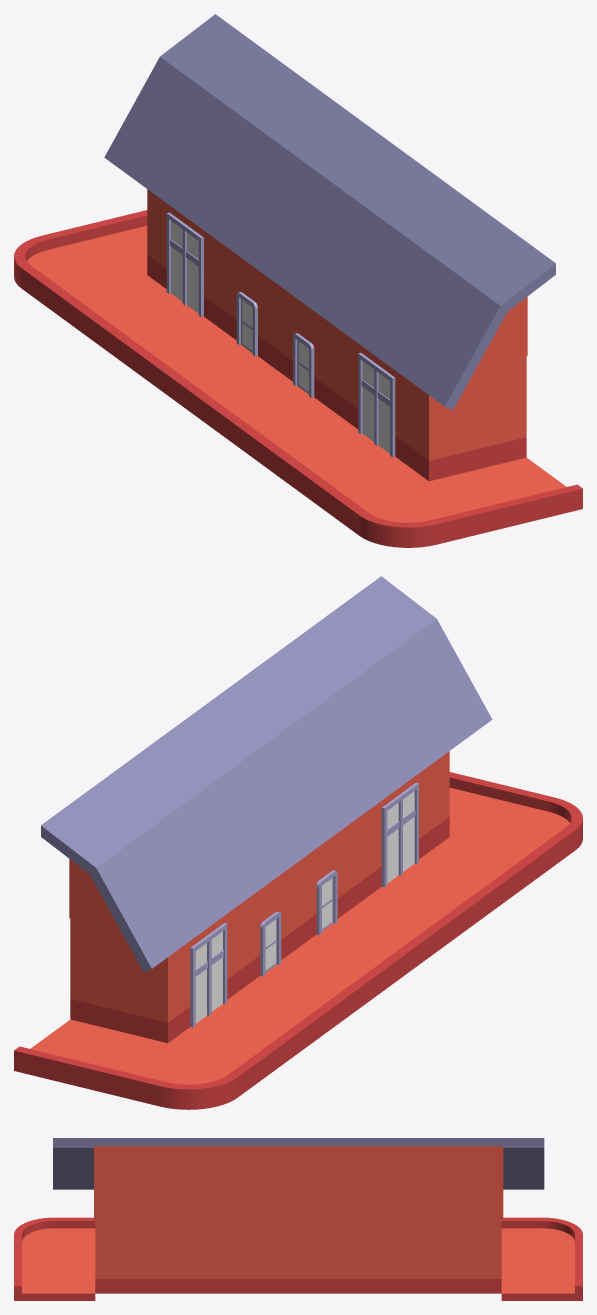
The model's file is Station_01.fbx.
3 views of the same model, one above another, from view 1: azimuth 30°, elevation 25°; view 2: azimuth 150°, elevation 25°; view 3: azimuth 270°, elevation 25° (orthographic). The views are drawn at different scales.
Visible parts, largest first — view 1: roof_barnHalf, roof_flatEdge (×3), block, roof_flatCornerRoundOpen (×2), door_wide (×2), door_low (×2); view 2: roof_barnHalf, roof_flatEdge (×3), block, roof_flatCornerRoundOpen (×2), door_wide (×2), door_low (×2); view 3: roof_barnHalf, block, roof_flatEdge (×2), roof_flatCornerRoundOpen (×2).
Part boxes in pixels (<box>): roof_barnHalf: <box>104,14,555,410</box>; roof_flatEdge (×3): <box>49,210,582,532</box>; block: <box>147,189,526,481</box>; roof_flatCornerRoundOpen (×2): <box>14,223,485,547</box>; door_wide (×2): <box>166,212,395,457</box>; door_low (×2): <box>236,292,314,397</box>; roof_barnHalf: <box>41,576,492,972</box>; roof_flatEdge (×3): <box>14,772,547,1094</box>; block: <box>70,751,449,1043</box>; roof_flatCornerRoundOpen (×2): <box>111,785,582,1109</box>; door_wide (×2): <box>190,782,418,1027</box>; door_low (×2): <box>260,870,337,976</box>; roof_barnHalf: <box>53,1138,544,1219</box>; block: <box>95,1220,501,1293</box>; roof_flatEdge (×2): <box>14,1252,582,1300</box>; roof_flatCornerRoundOpen (×2): <box>14,1217,582,1259</box>.
Size of the model in its own units: 0.2 by 0.2212 by 0.7.
